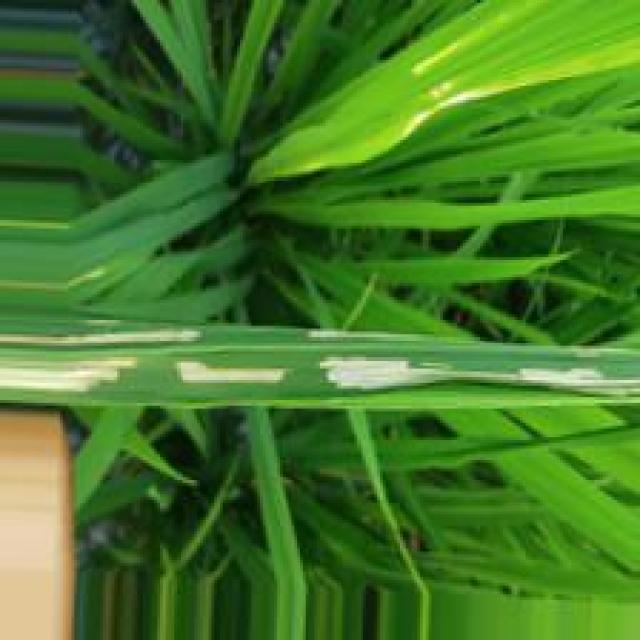Rice_Hispa: (0, 360, 144, 397), (320, 359, 478, 392), (487, 368, 635, 394), (176, 357, 297, 387)
